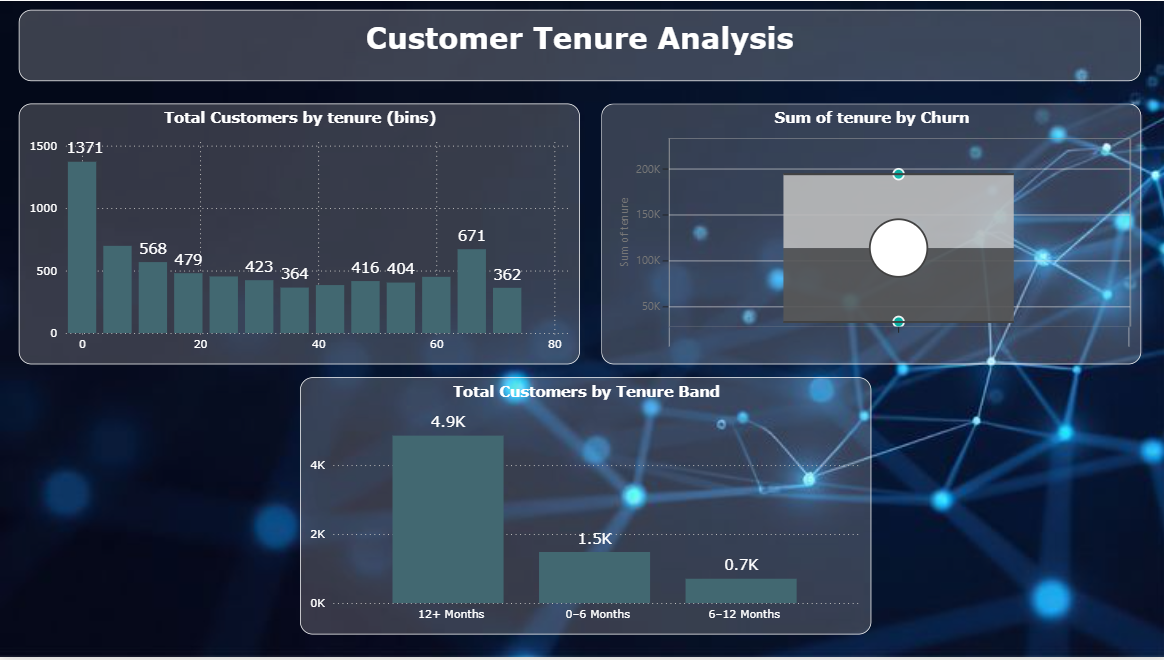

What the dashboard file says about the page in this screenshot:
{"tool":"powerbi","page":{"name":"Page 3","canvas":[1280,720],"ordinal":2},"visuals":[{"type":"clusteredColumnChart","fields":{"Category":["Telco_Customer_Churn_Dataset  (2).tenure (bins)"],"Y":["Calculated Measure.Total Customers"]},"box":[20.6,112.5,616.1,286.8],"z":0},{"type":"BoxandWhiskerByMAQ1823AD39DT234AB532063E128AX","title":"Tenure by Churn","fields":{"measure":["Sum(Telco_Customer_Churn_Dataset  (2).tenure)"],"category":["Telco_Customer_Churn_Dataset  (2).Churn"]},"box":[660,112.5,592.8,286.8],"z":1000},{"type":"clusteredColumnChart","fields":{"Category":["Telco_Customer_Churn_Dataset  (2).Tenure Band"],"Y":["Calculated Measure.Total Customers"]},"box":[329.3,413,627.1,282.7],"z":2000},{"type":"textbox","box":[20.6,9.6,1232.3,78.2],"z":3000}]}

Visuals, with their boxes in screenshot pixels (x1, y1, x2, y2), scaled from the page's 1280x720 canvas onto the 1164x660 screenshot:
clusteredColumnChart - Telco_Customer_Churn_Dataset  (2).tenure (bins) x Calculated Measure.Total Customers: pyautogui.locateOnScreen(19, 103, 579, 366)
"Tenure by Churn" BoxandWhiskerByMAQ1823AD39DT234AB532063E128AX: pyautogui.locateOnScreen(600, 103, 1139, 366)
clusteredColumnChart - Telco_Customer_Churn_Dataset  (2).Tenure Band x Calculated Measure.Total Customers: pyautogui.locateOnScreen(299, 379, 870, 638)
textbox: pyautogui.locateOnScreen(19, 9, 1139, 80)
